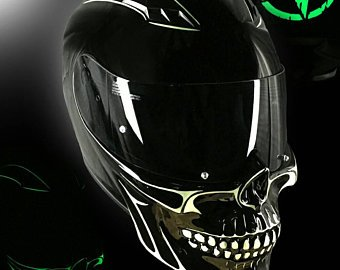with_helmet: (59, 1, 300, 270)
